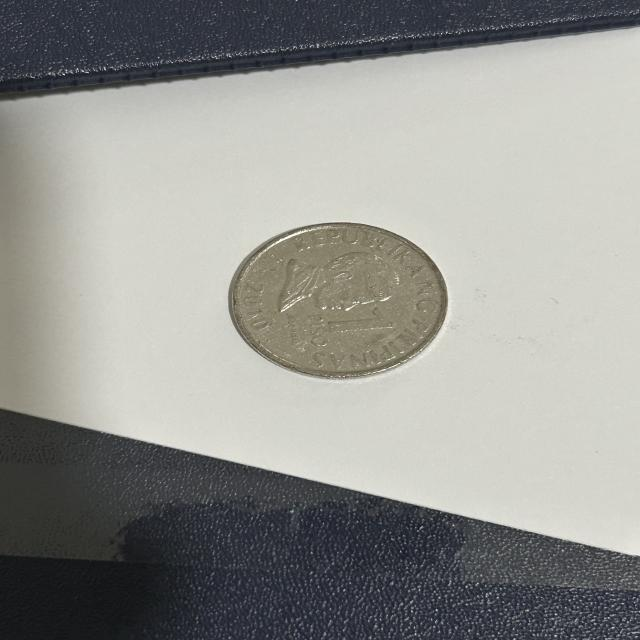1_Old_Front: (304, 308, 406, 356)
